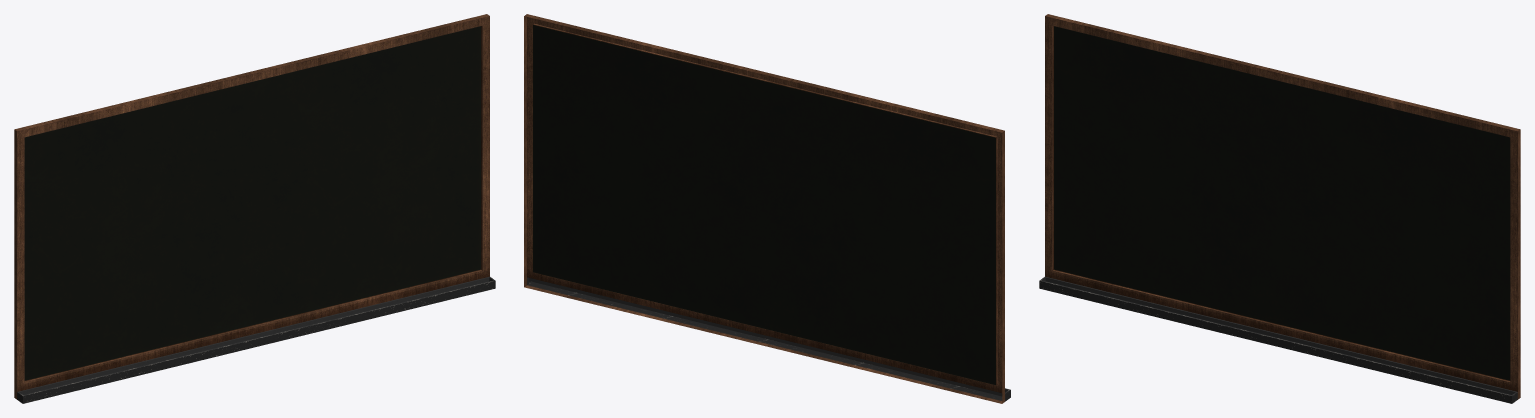
File: black_board.glb
3 renders of one model, left to right at view 1: azimuth 30°, elevation 25°; view 2: azimuth 150°, elevation 25°; view 3: azimuth 330°, elevation 25°, orthographic.
Parts seen in each view (by area): view 1: Blackboard; view 2: Blackboard; view 3: Blackboard.
Boxes of the visible parts, left/top/right/bottom form: Blackboard: left=14, top=14, right=495, bottom=403; Blackboard: left=524, top=14, right=1010, bottom=403; Blackboard: left=1039, top=14, right=1520, bottom=403.
Bounding box in the file's own units: 3.8 × 2.06 × 0.12.
1 material, 1 textured.
